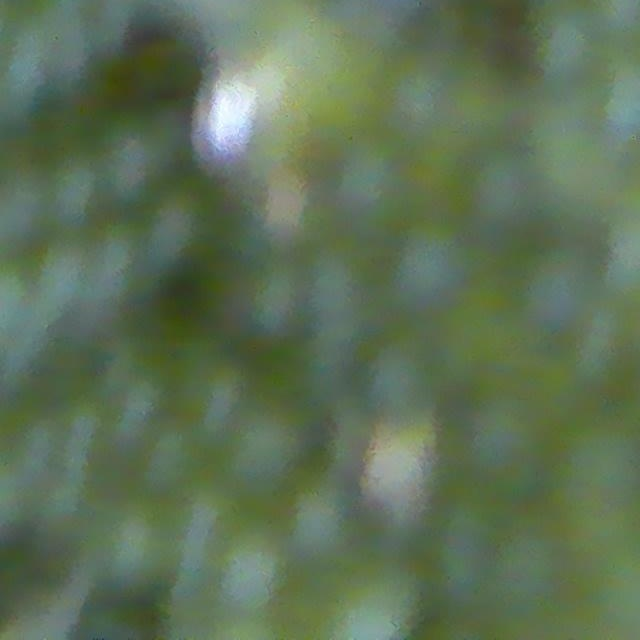SeaGrape: (385, 218, 479, 313), (310, 562, 425, 639), (85, 501, 178, 592), (514, 241, 603, 334), (223, 401, 311, 490), (464, 146, 550, 235), (214, 525, 292, 613), (333, 139, 409, 226), (235, 260, 313, 341), (284, 479, 357, 565), (532, 8, 601, 82), (139, 419, 206, 490), (44, 156, 97, 228), (0, 179, 52, 249), (110, 121, 155, 200), (144, 192, 192, 266), (30, 247, 88, 302), (599, 61, 640, 136), (92, 229, 137, 293)
